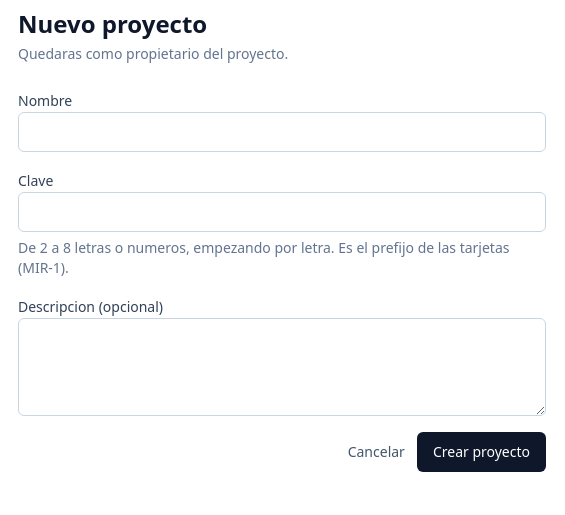
CreateProjectPage › si la clave ya existe, lo indica bajo el campo, le da el foco y conserva lo escrito
Type "Mira" into the field labelled "Nombre" at (282, 132), box [18, 112, 546, 152]
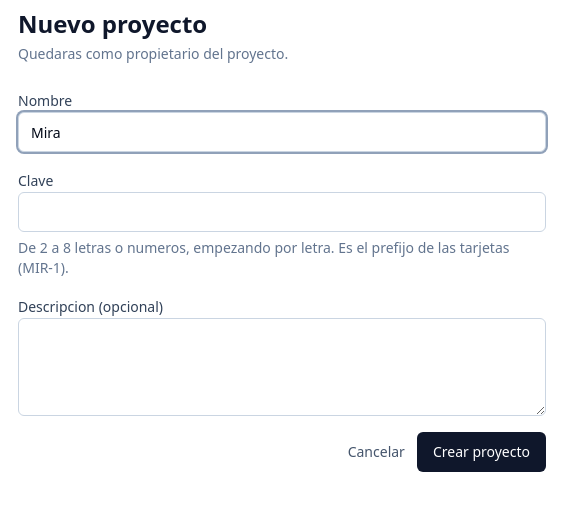
Type "mir" into the field labelled "Clave" at (282, 212), box [18, 192, 546, 232]
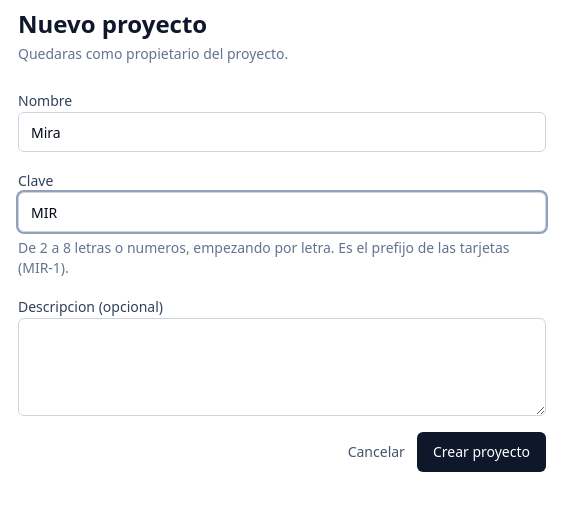
Click the button "Crear proyecto" at (481, 452), box [417, 432, 546, 472]
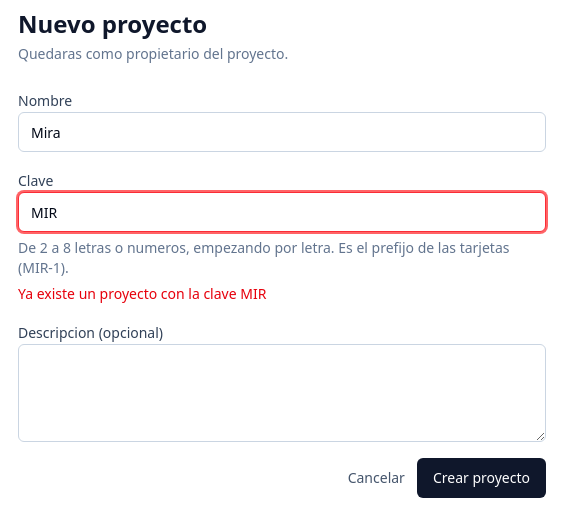
Expected: the number of messages is 1, [18, 284, 266, 303]
